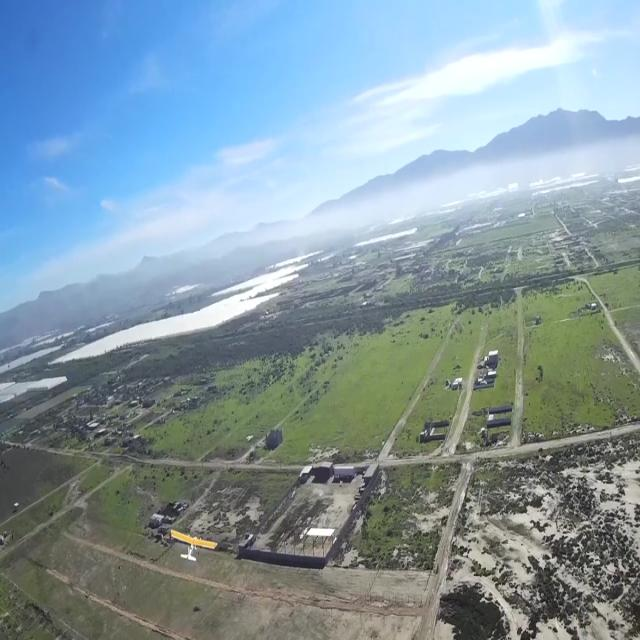iha: (167, 527, 218, 566)
